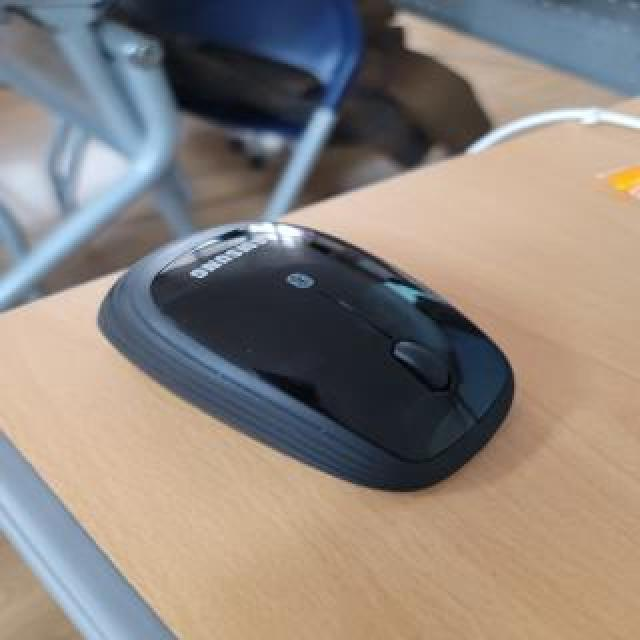mouse: (90, 190, 565, 494)
